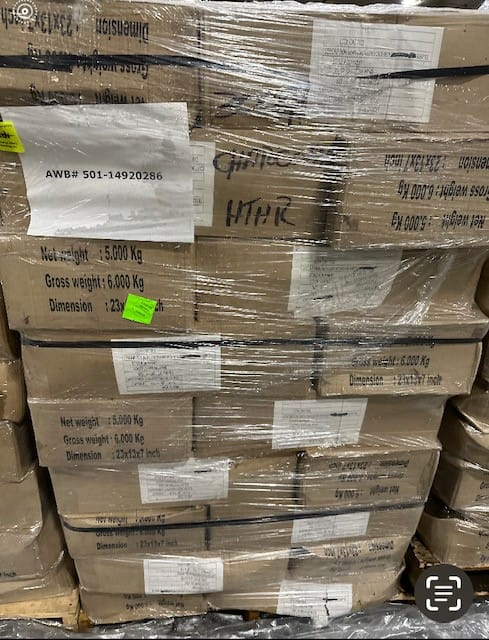box: (4, 78, 215, 255), (4, 233, 205, 353), (332, 115, 489, 247), (22, 336, 315, 405), (31, 449, 300, 524), (195, 112, 342, 237), (177, 388, 452, 449), (199, 241, 329, 358), (63, 543, 293, 604), (304, 330, 489, 405), (285, 433, 449, 514), (22, 394, 197, 469), (48, 508, 217, 559), (211, 513, 423, 545)
